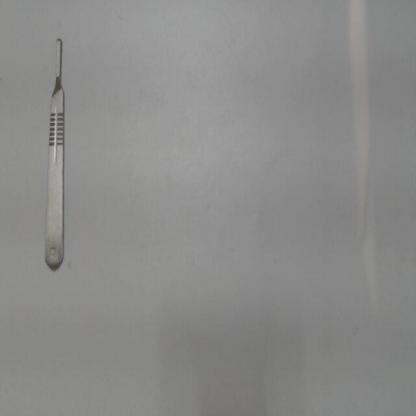No.4 BP Handle: (41, 31, 69, 278)
